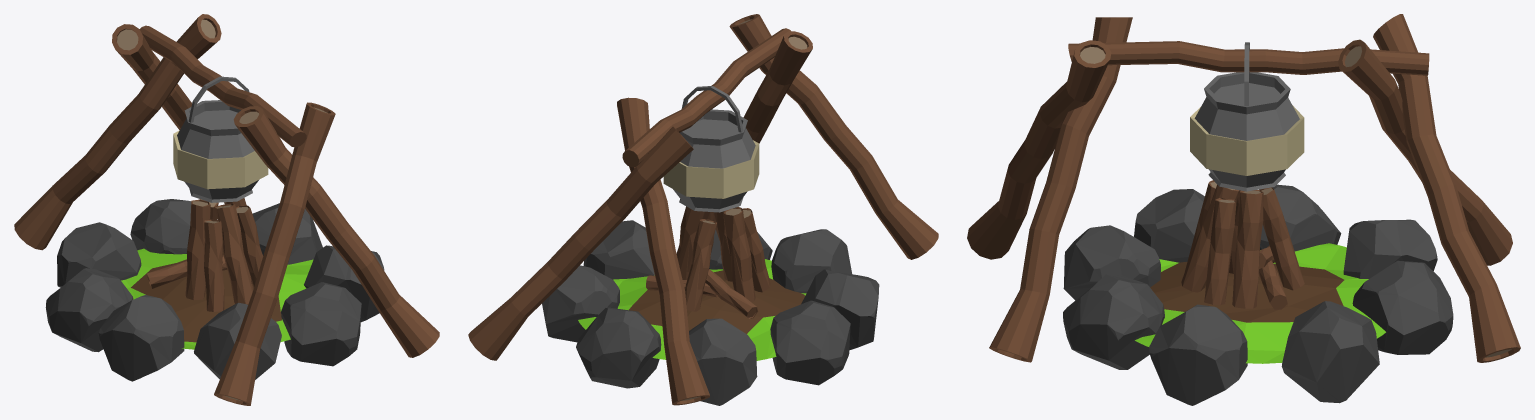
The model's file is bonfire.fbx.
3 views of the same model, side by side, from view 1: azimuth 30°, elevation 25°; view 2: azimuth 150°, elevation 25°; view 3: azimuth 270°, elevation 25° (orthographic). The views are drawn at different scales.
Visible parts, largest first — view 1: Sphere.006, Circle.002, Circle.001, Circle.004, Circle, Plane, Circle.005, Circle.003, Cylinder.001, Cylinder.003, Cylinder.005, Cylinder.004 (+1 smaller); view 2: Sphere.006, Circle.003, Circle.004, Circle, Circle.002, Plane, Circle.005, Circle.001, Cylinder.003, Cylinder, Cylinder.005, Cylinder.002 (+2 smaller); view 3: Sphere.006, Circle, Circle.003, Circle.001, Plane, Circle.002, Circle.005, Circle.004, Cylinder.002, Cylinder.004, Cylinder, Cylinder.001 (+2 smaller).
Boxes of the visible parts, box(x1,y1,x2,y2) form: Sphere.006: box(45, 199, 384, 381); Circle.002: box(214, 102, 335, 405); Circle.001: box(233, 106, 439, 357); Circle.004: box(14, 14, 221, 250); Circle: box(173, 76, 268, 202); Plane: box(121, 248, 313, 349); Circle.005: box(139, 25, 306, 147); Circle.003: box(112, 24, 191, 130); Cylinder.001: box(214, 203, 252, 304); Cylinder.003: box(185, 199, 210, 300); Cylinder.005: box(204, 219, 224, 311); Cylinder.004: box(236, 205, 263, 288); Sphere.006: box(542, 220, 879, 405); Circle.003: box(468, 126, 693, 360); Circle.004: box(617, 97, 709, 405); Circle: box(663, 86, 759, 212); Circle.002: box(729, 14, 938, 259); Plane: box(578, 259, 806, 360); Circle.005: box(622, 28, 791, 167); Circle.001: box(743, 31, 812, 143); Cylinder.003: box(723, 206, 755, 302); Cylinder: box(685, 219, 716, 311); Cylinder.005: box(742, 208, 770, 292); Cylinder.002: box(676, 206, 704, 279); Sphere.006: box(1063, 184, 1453, 405); Circle: box(1190, 42, 1304, 191); Circle.003: box(1373, 14, 1520, 362); Circle.001: box(989, 17, 1132, 362); Plane: box(1135, 243, 1385, 363); Circle.002: box(967, 40, 1111, 259); Circle.005: box(1068, 41, 1429, 75); Circle.004: box(1338, 39, 1512, 265); Cylinder.002: box(1232, 190, 1263, 308); Cylinder.004: box(1204, 198, 1236, 304); Cylinder: box(1259, 187, 1304, 290); Cylinder.001: box(1181, 184, 1239, 292).
Size of the model in its own units: 2.87 by 2.61 by 4.09.
